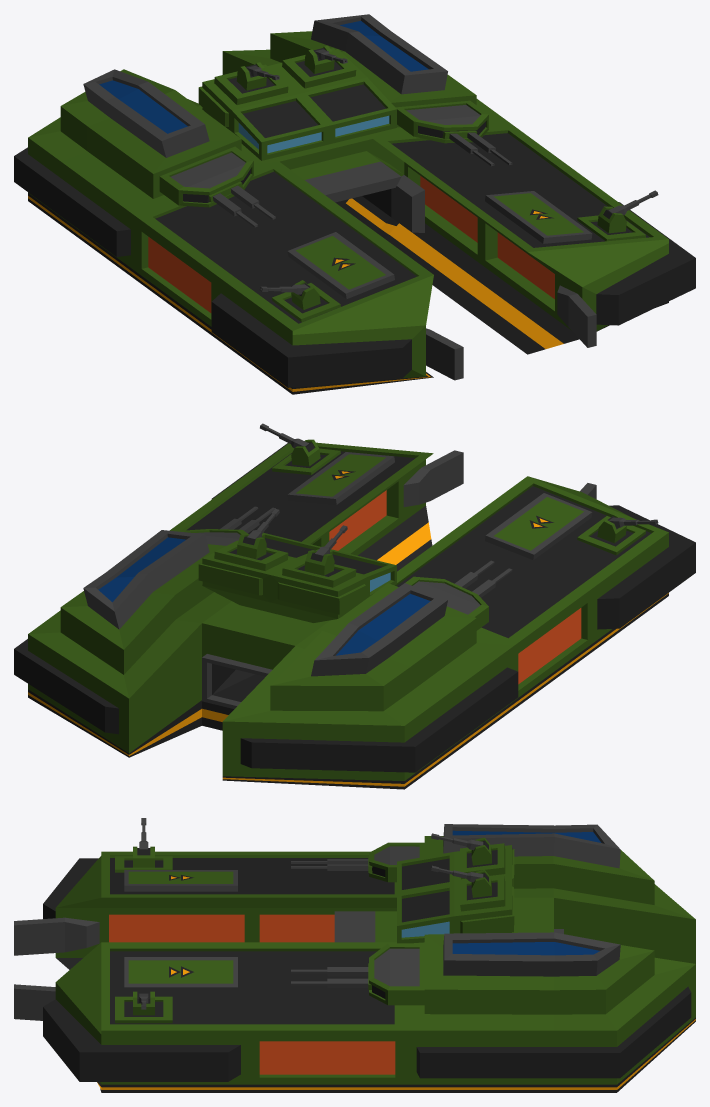
Rendered from MegaCarrier.fbx.
3 views of the same model, one above another, from view 1: azimuth 30°, elevation 25°; view 2: azimuth 150°, elevation 25°; view 3: azimuth 270°, elevation 25° (orthographic). The views are drawn at different scales.
Parts seen in each view (by area): view 1: Cube; view 2: Cube; view 3: Cube.
Part boxes in pixels (x1,y1,x2,y2): Cube: (14, 14, 695, 394); Cube: (14, 423, 695, 789); Cube: (14, 818, 695, 1092).
Bounding box in the file's own units: 609 × 248 × 904.
Materials: 2 (1 with a texture image).
